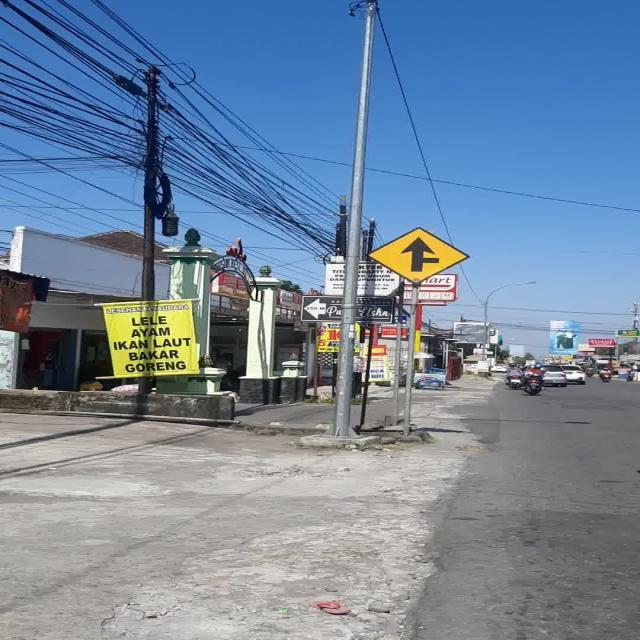Persimpangan 3 Prioritas Kanan: (367, 227, 470, 284)
